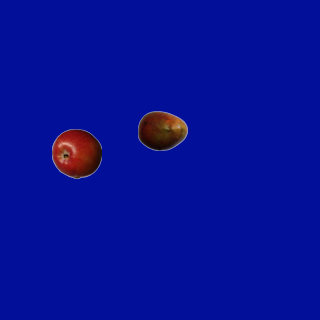Apple Braeburn: (51, 128, 101, 178)
Mango Red: (137, 105, 187, 155)
